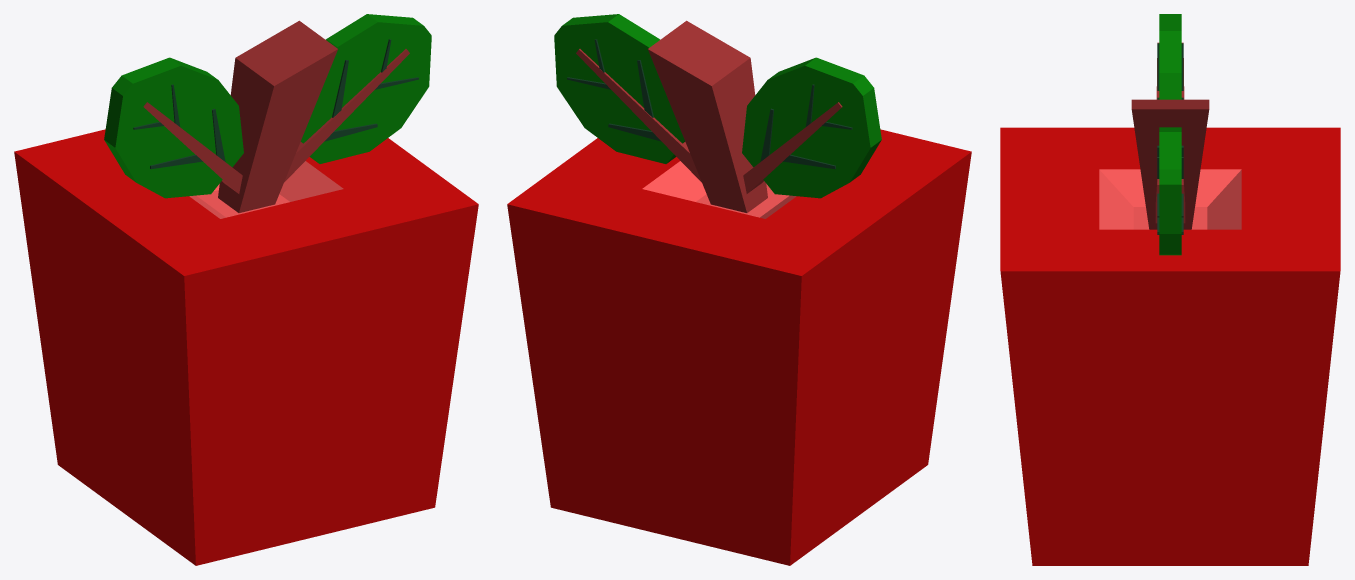
Rendered from Apple.fbx.
3 renders of one model, left to right at view 1: azimuth 30°, elevation 25°; view 2: azimuth 150°, elevation 25°; view 3: azimuth 270°, elevation 25°, orthographic.
Parts seen in each view (by area): view 1: Apple; view 2: Apple; view 3: Apple.
Boxes of the visible parts, x1,y1,x2,y2 form: Apple: [14, 14, 478, 565]; Apple: [507, 14, 971, 565]; Apple: [1000, 14, 1340, 565].
Size of the model in its own units: 0.7359 by 0.9505 by 0.6628.
